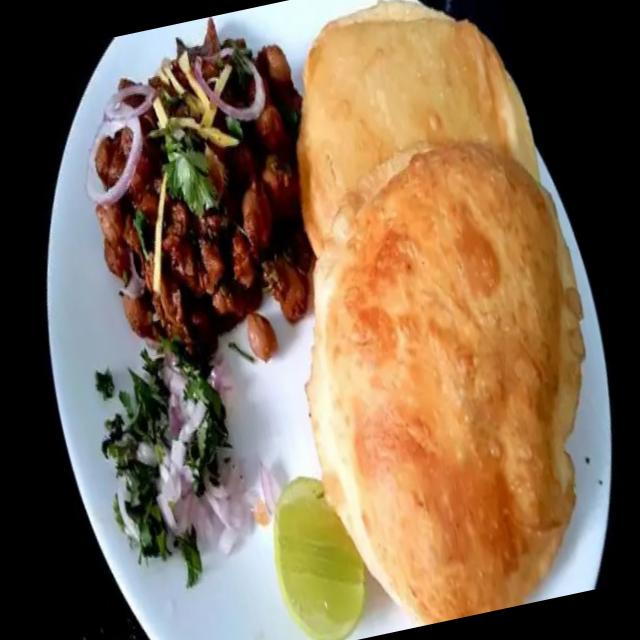Bhatura: (227, 0, 638, 639)
Chole: (66, 4, 352, 379)
